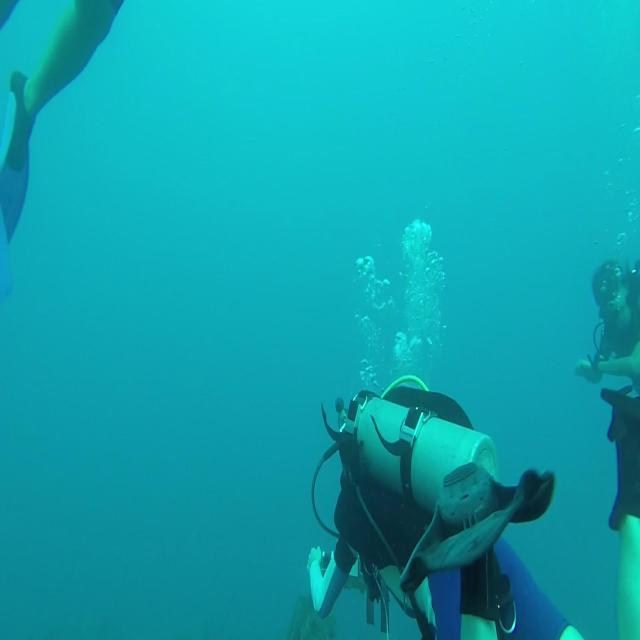human: (306, 374, 584, 638), (574, 255, 639, 638)
